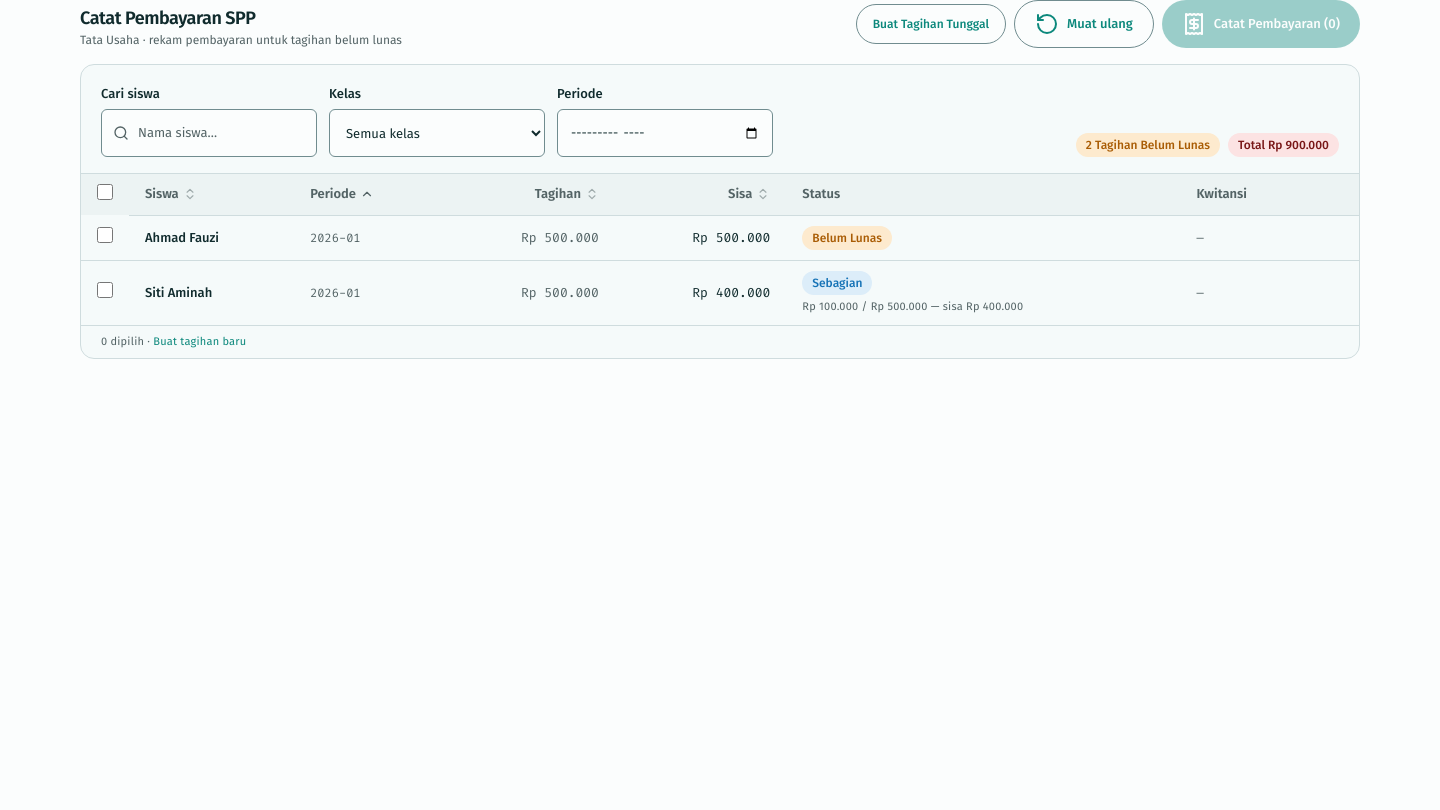
SppPaymentsPage › rejects a payment larger than the outstanding balance
The image size is (1440, 810).
Expected: the text "Ahmad Fauzi" is shown, [129,215,294,260]
Click the checkbox named "Pilih tagihan Ahmad Fauzi": coordinates (105, 235) [97,227,113,243]
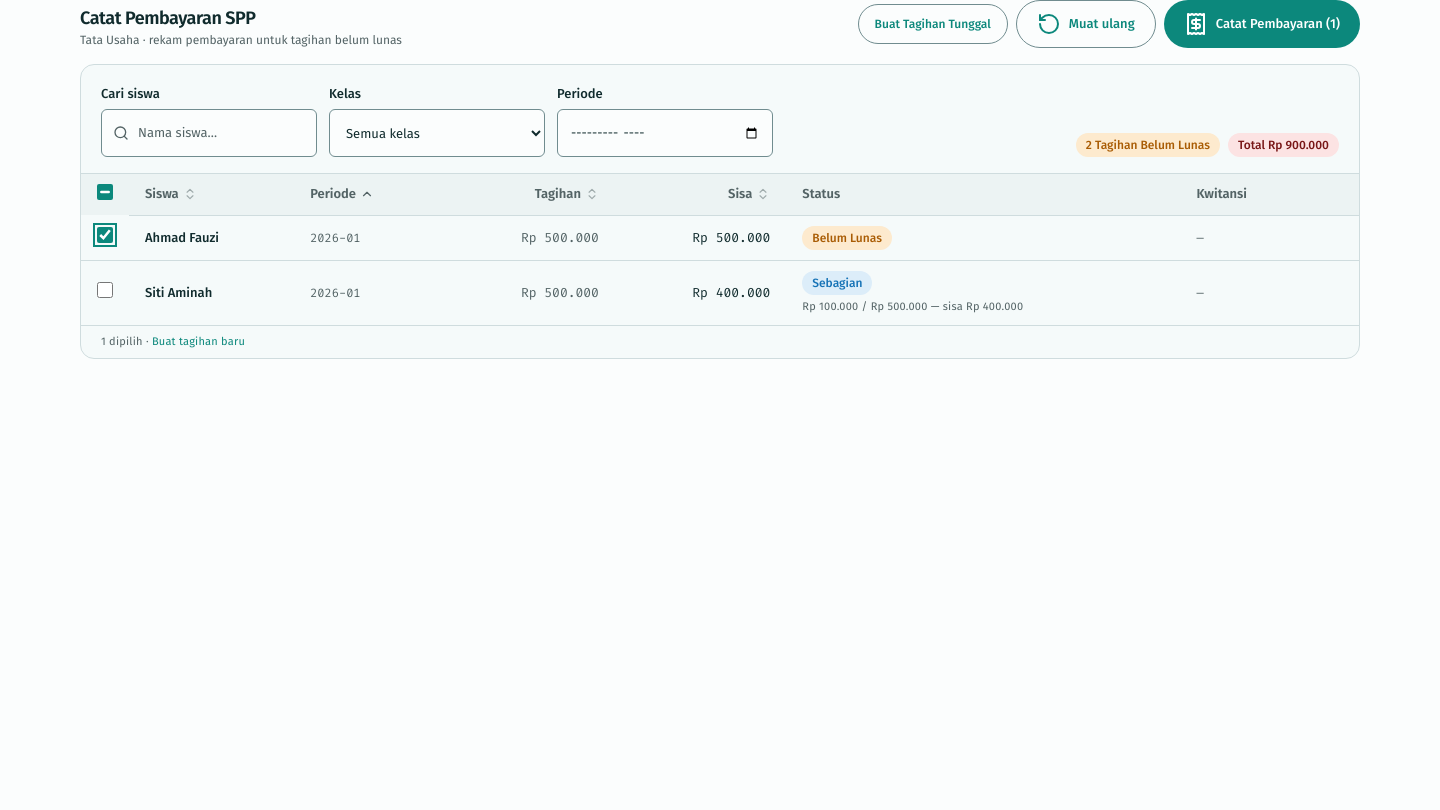
Click the button "Catat Pembayaran (1)": coordinates (1262, 24) [1164,0,1360,48]
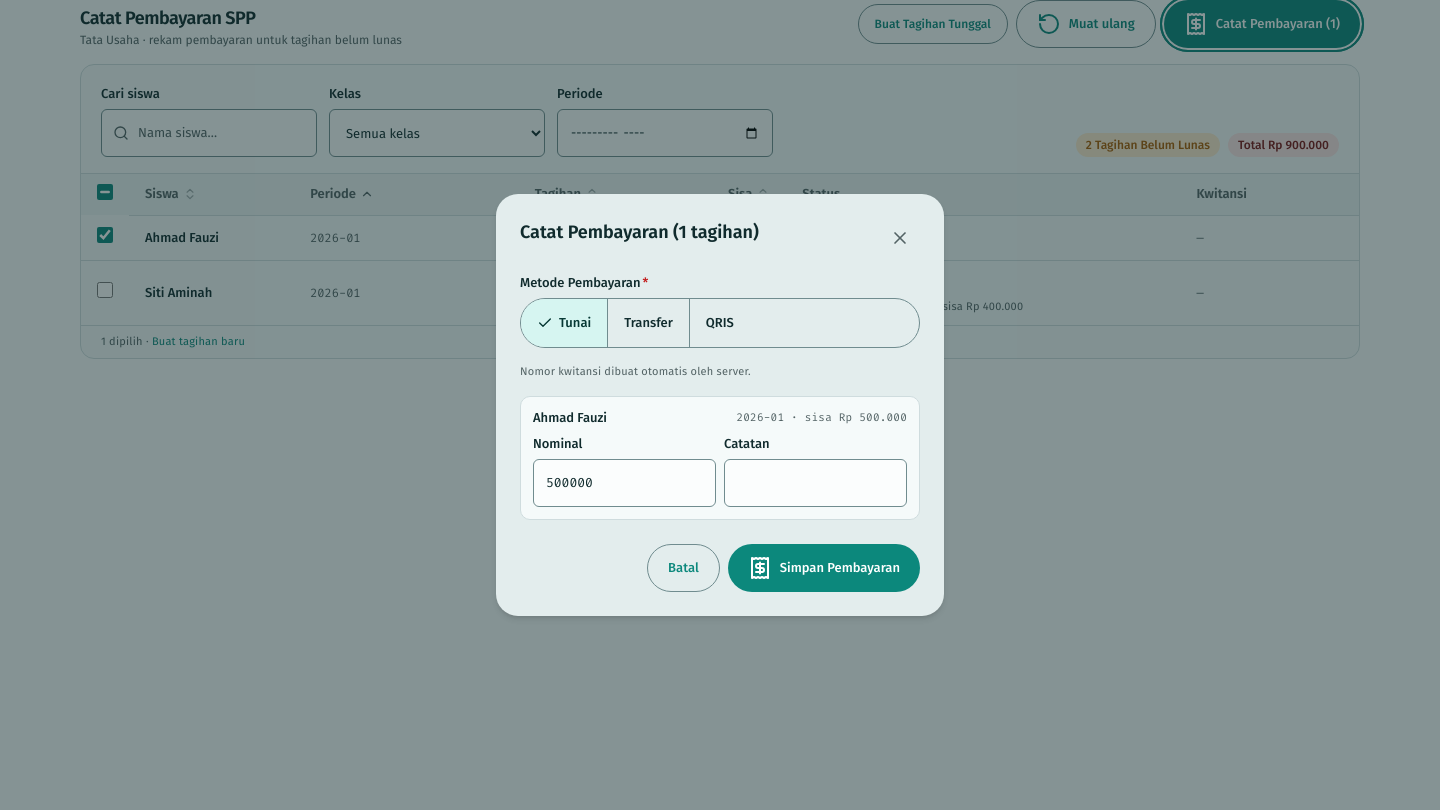
Replace the text in the number field labelled "Nominal" with "9999999": coordinates (624, 483) [533,459,716,507]
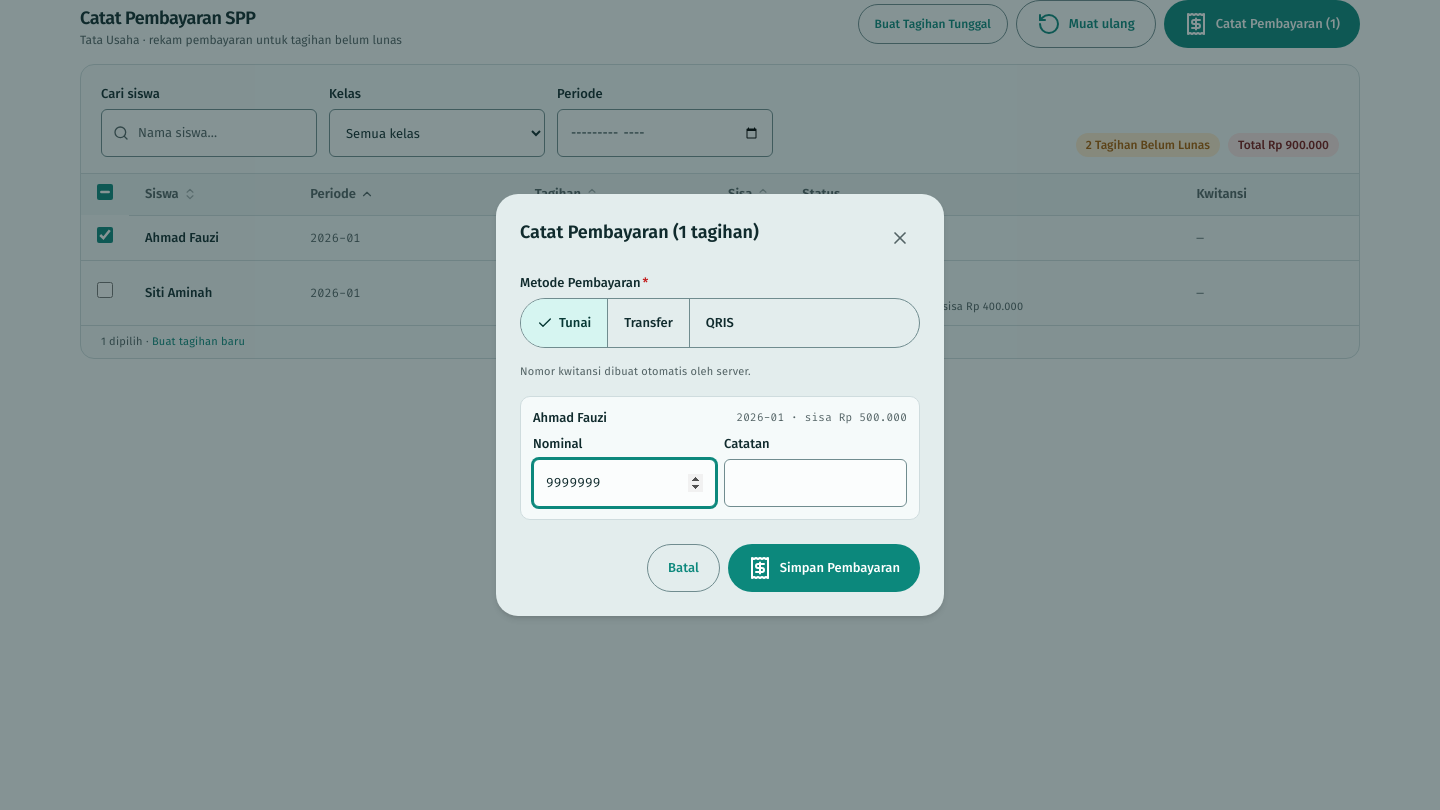
Click the button "Simpan Pembayaran": coordinates (824, 568) [728,544,920,592]
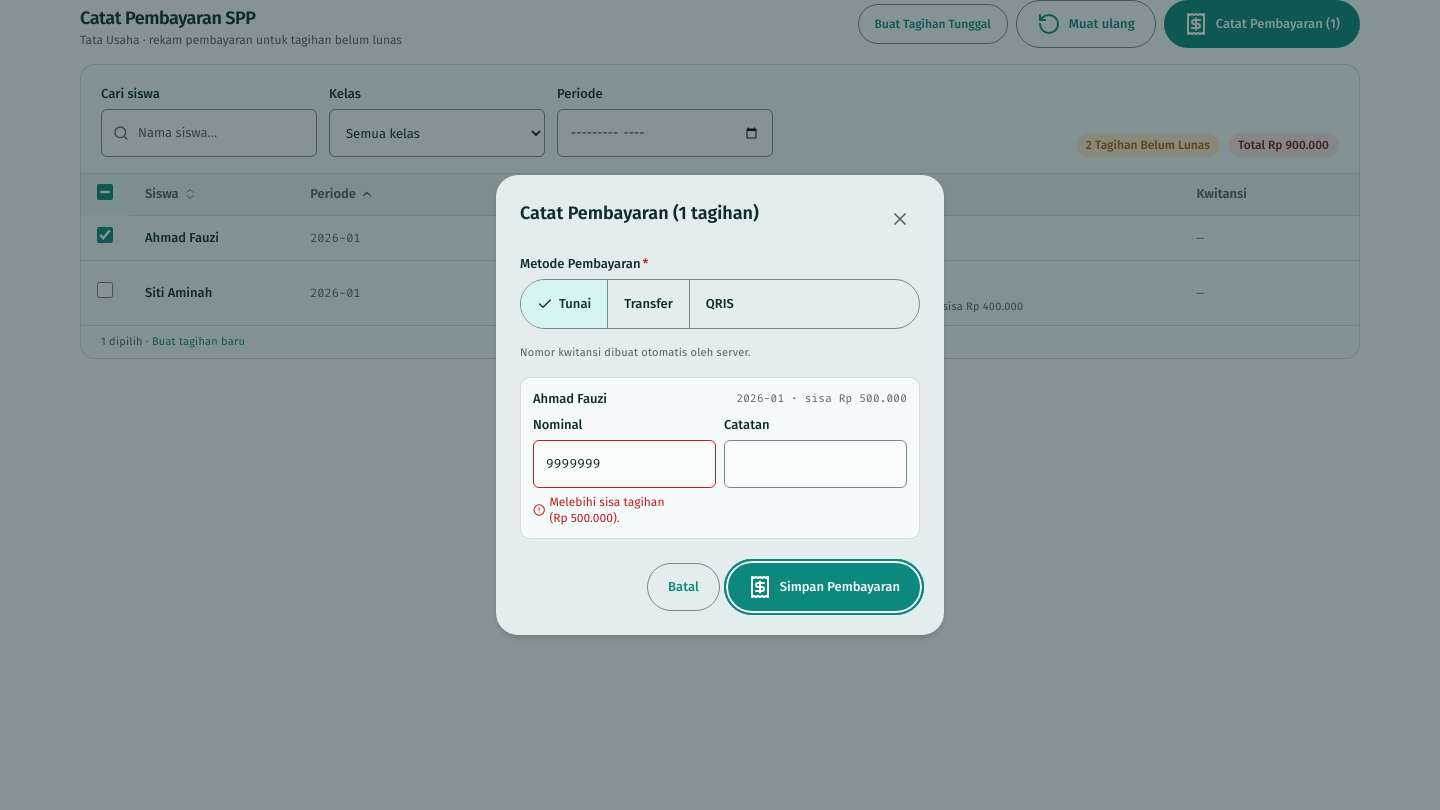
Now the text "Melebihi sisa tagihan (Rp 500.000)." is shown, box [533,495,664,525]
